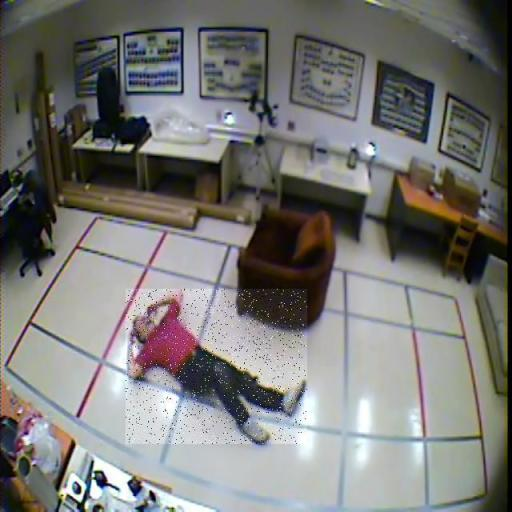Fall: (126, 289, 307, 444)
